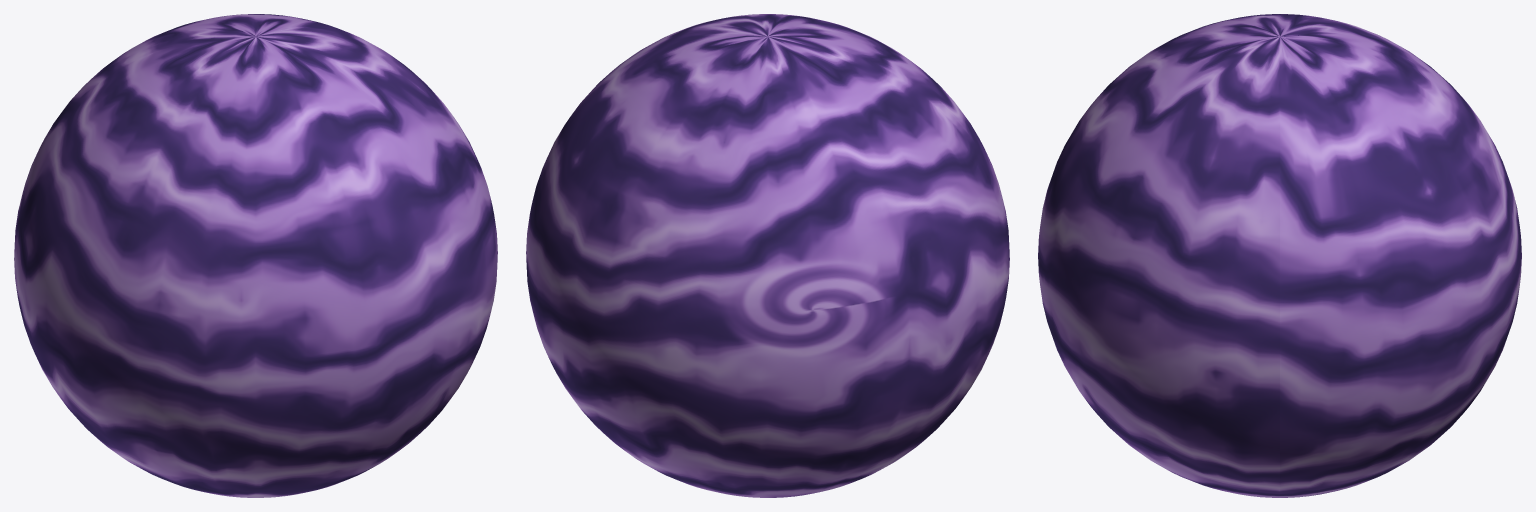
The model's file is gas_planet.glb.
3 renders of one model, left to right at view 1: azimuth 30°, elevation 25°; view 2: azimuth 150°, elevation 25°; view 3: azimuth 270°, elevation 25°, orthographic.
Parts seen in each view (by area): view 1: gas_planet; view 2: gas_planet; view 3: gas_planet.
Boxes of the visible parts, x1,y1,x2,y2 form: gas_planet: (14,14,497,497); gas_planet: (526,14,1009,497); gas_planet: (1038,14,1521,497).
Size of the model in its own units: 2 by 2 by 2.
Materials: 1 (1 with a texture image).
